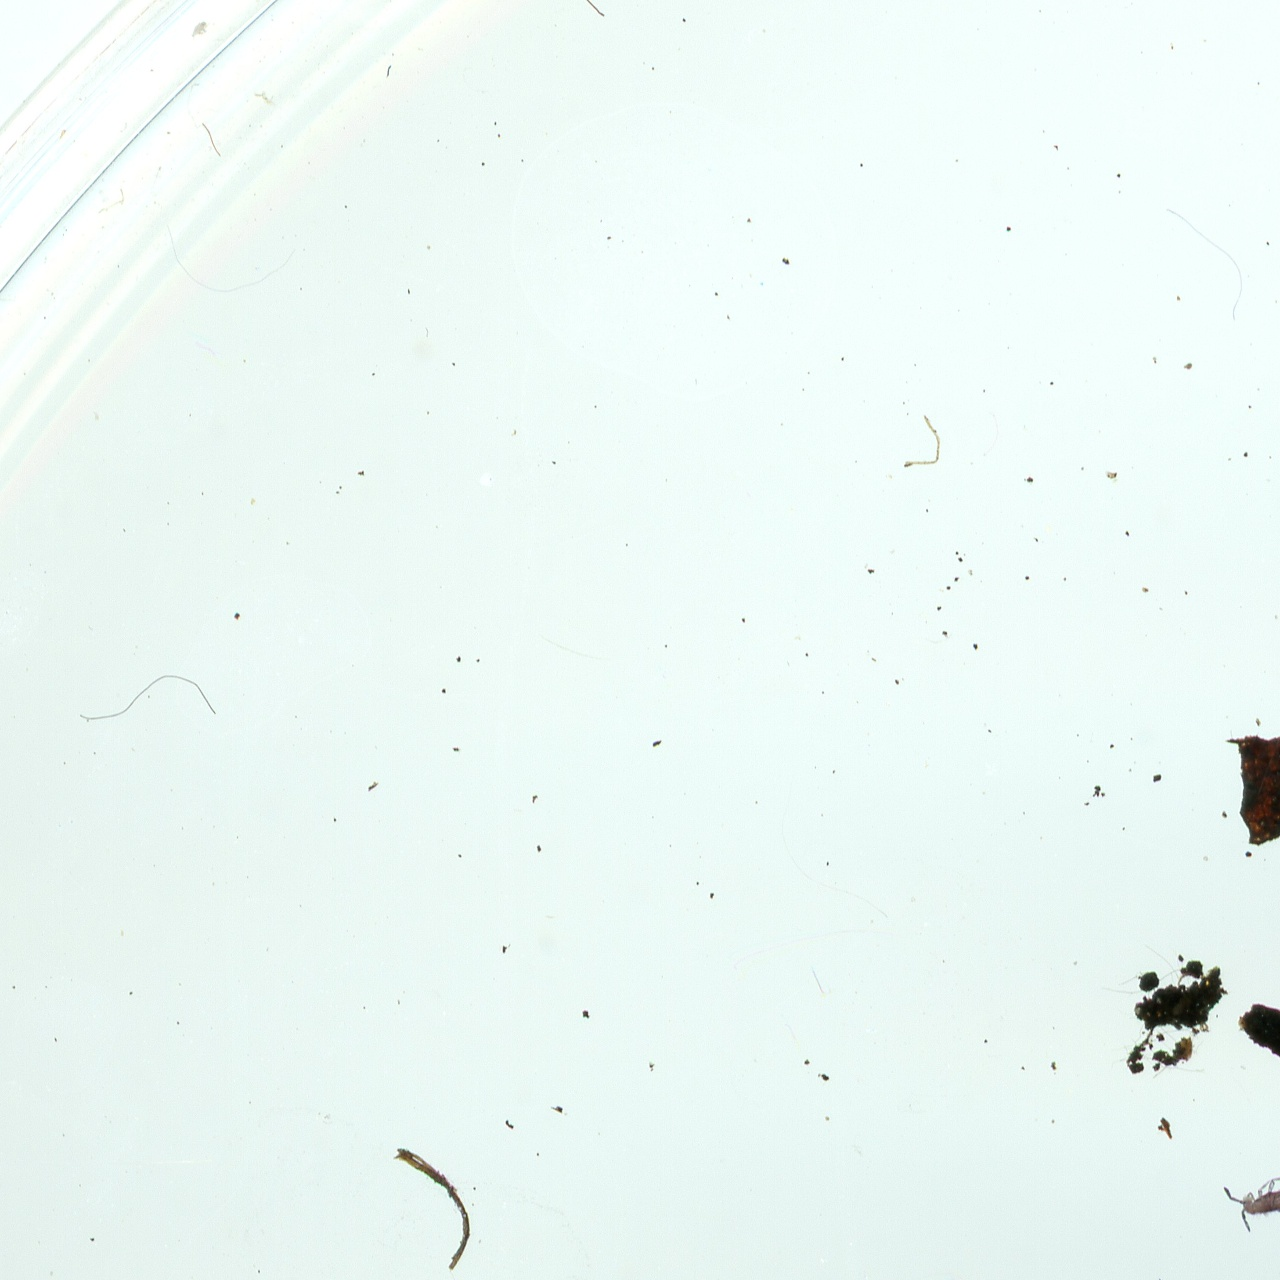arthropod: (1221, 1176, 1280, 1233)
